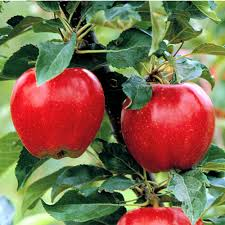apple: (10, 69, 103, 158), (120, 83, 214, 170), (119, 202, 194, 225)
